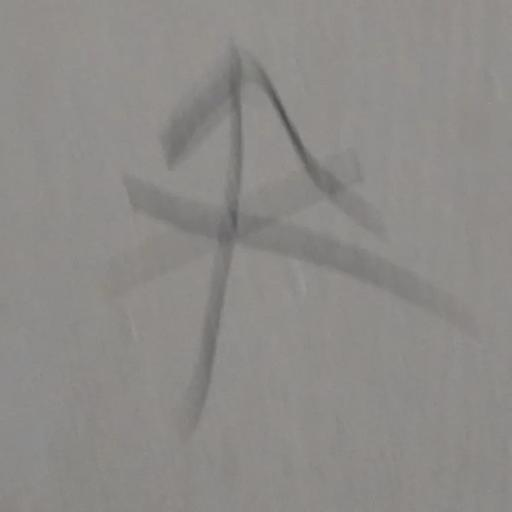stain: (114, 15, 493, 443)
